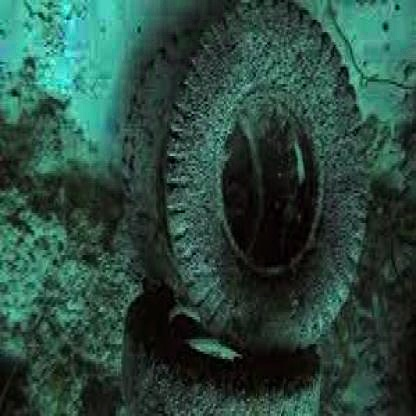tire: (162, 3, 374, 320), (98, 277, 324, 416), (110, 20, 204, 294)
